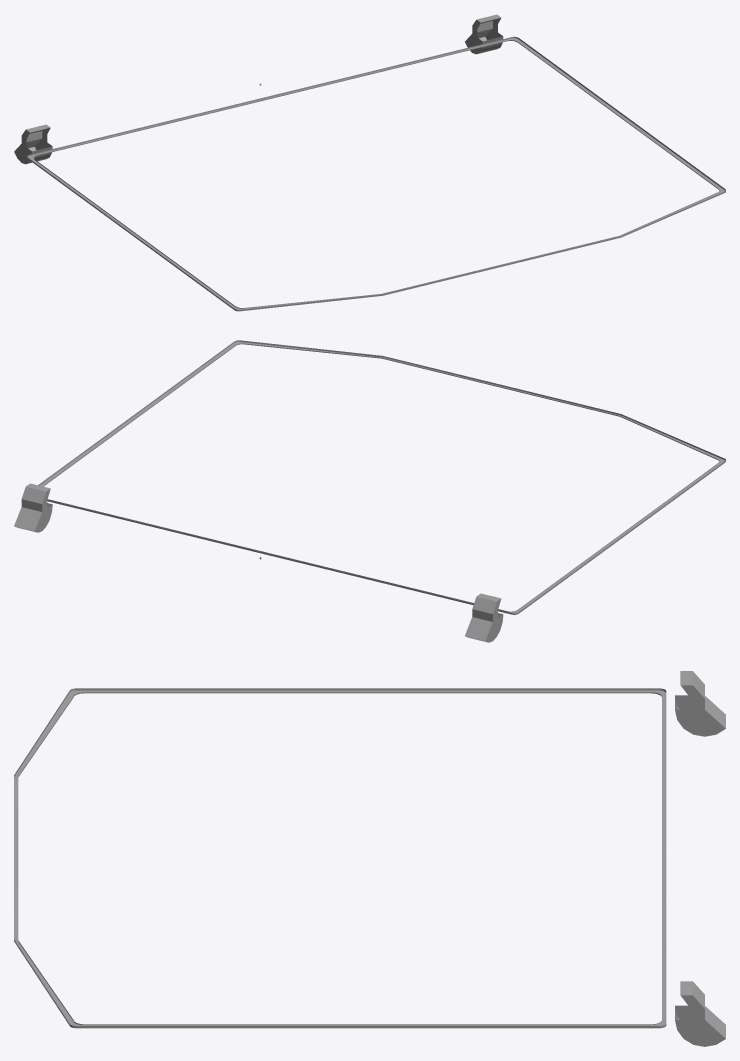
Rendered from LidMeshLaptopLid_23_0_GeomSubset_1.obj.
3 views of the same model, one above another, from view 1: azimuth 30°, elevation 25°; view 2: azimuth 150°, elevation 25°; view 3: azimuth 270°, elevation 25° (orthographic). The views are drawn at different scales.
Visible parts, largest first — view 1: LidMeshLaptopLid_23_0_GeomSubset_1; view 2: LidMeshLaptopLid_23_0_GeomSubset_1; view 3: LidMeshLaptopLid_23_0_GeomSubset_1.
Part boxes in pixels (x1,y1,x2,y2): LidMeshLaptopLid_23_0_GeomSubset_1: (14, 14, 725, 311); LidMeshLaptopLid_23_0_GeomSubset_1: (14, 340, 725, 642); LidMeshLaptopLid_23_0_GeomSubset_1: (14, 671, 725, 1046).
Size of the model in its own units: 0.3397 by 0.0242 by 0.3026.
